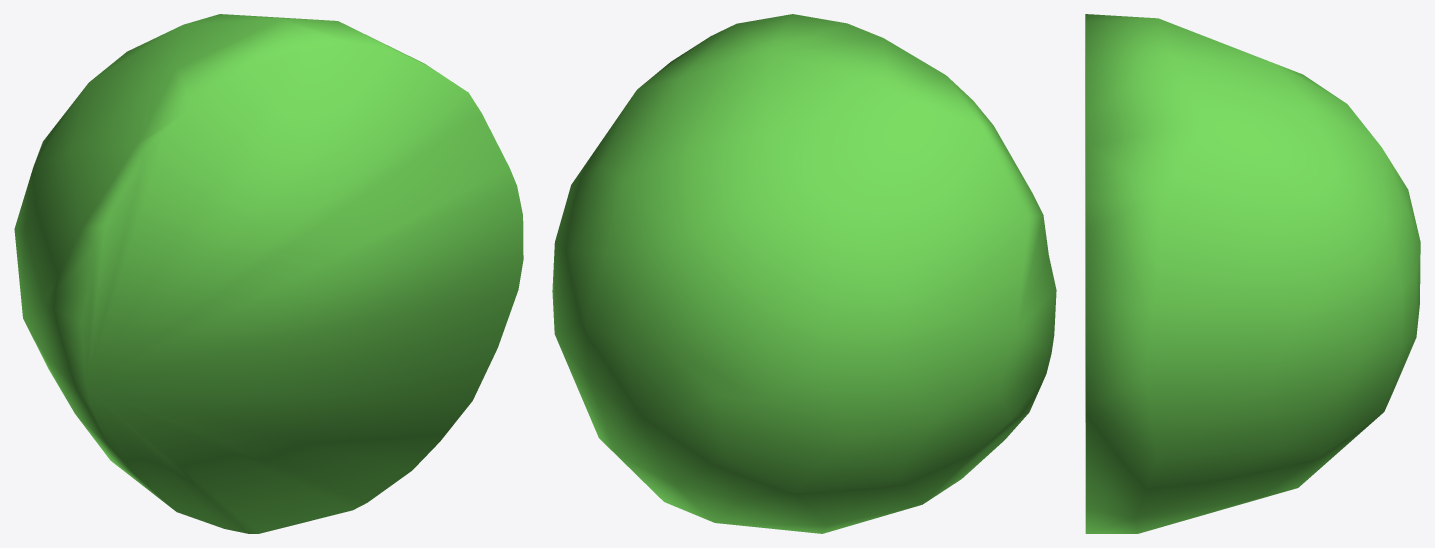
The model's file is melon_right.obj.
3 views of the same model, side by side, from view 1: azimuth 30°, elevation 25°; view 2: azimuth 150°, elevation 25°; view 3: azimuth 270°, elevation 25° (orthographic).
Parts seen in each view (by area): view 1: melon; view 2: melon; view 3: melon.
Boxes of the visible parts, x1,y1,x2,y2 form: melon: [14, 14, 523, 533]; melon: [552, 14, 1056, 533]; melon: [1085, 14, 1420, 533].
Size of the model in its own units: 0.1764 by 0.1796 by 0.1168.
